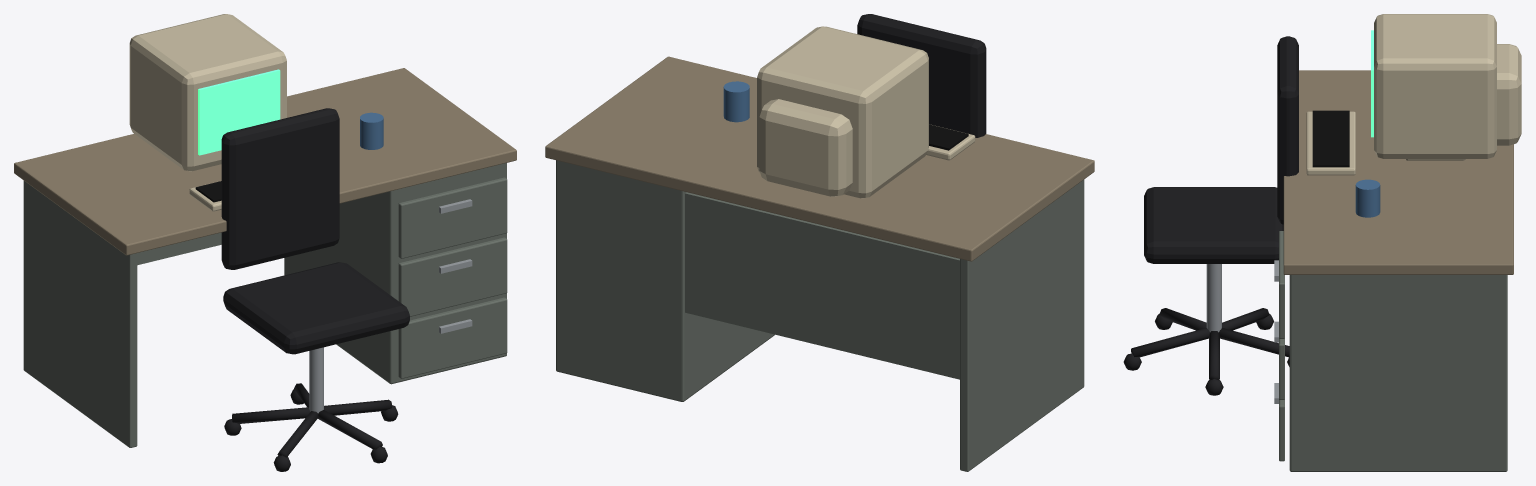
File: office_desk.glb
3 renders of one model, left to right at view 1: azimuth 30°, elevation 25°; view 2: azimuth 150°, elevation 25°; view 3: azimuth 270°, elevation 25°, orthographic. The views are drawn at different scales.
Visible parts, largest first — view 1: office_desk; view 2: office_desk; view 3: office_desk.
Part boxes in pixels (x1=…): office_desk: x1=14, y1=14, x2=516, y2=471; office_desk: x1=545, y1=14, x2=1094, y2=471; office_desk: x1=1123, y1=14, x2=1521, y2=471.
Size of the model in its own units: 1.5 by 1.16 by 1.3.
